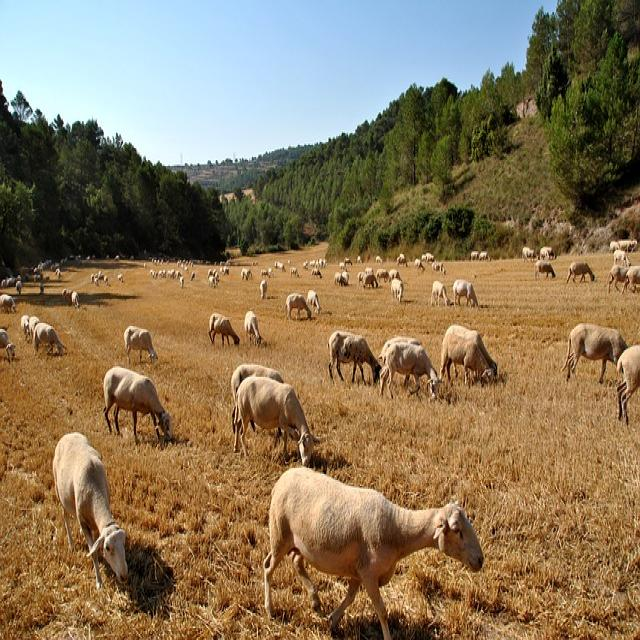goat: (264, 467, 484, 638), (55, 434, 128, 588), (234, 376, 319, 464), (104, 366, 174, 442), (561, 323, 626, 382), (380, 342, 440, 399), (329, 331, 381, 383), (440, 335, 494, 382), (616, 346, 640, 423), (124, 325, 158, 364), (209, 312, 239, 346), (32, 326, 65, 354), (244, 310, 262, 345), (285, 295, 311, 319), (454, 282, 478, 307), (431, 280, 448, 307), (391, 279, 404, 302)
